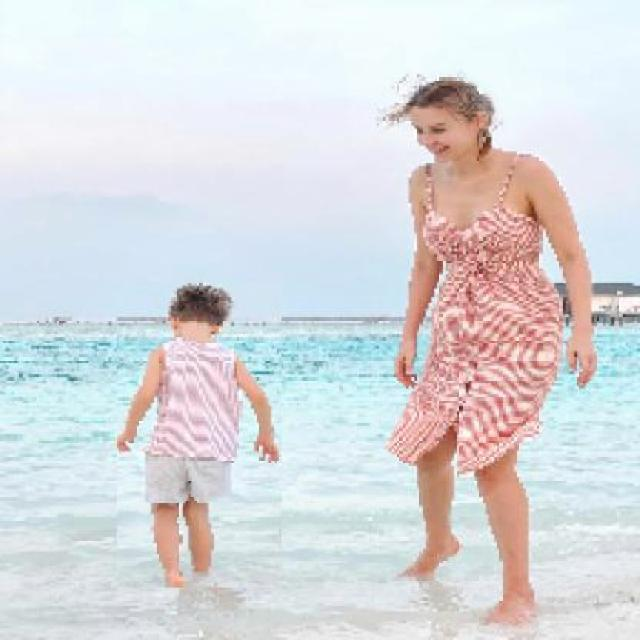child: (116, 282, 282, 589)
